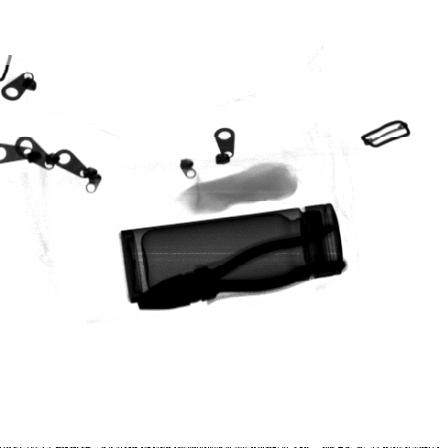Pliers: (136, 223, 348, 311)
